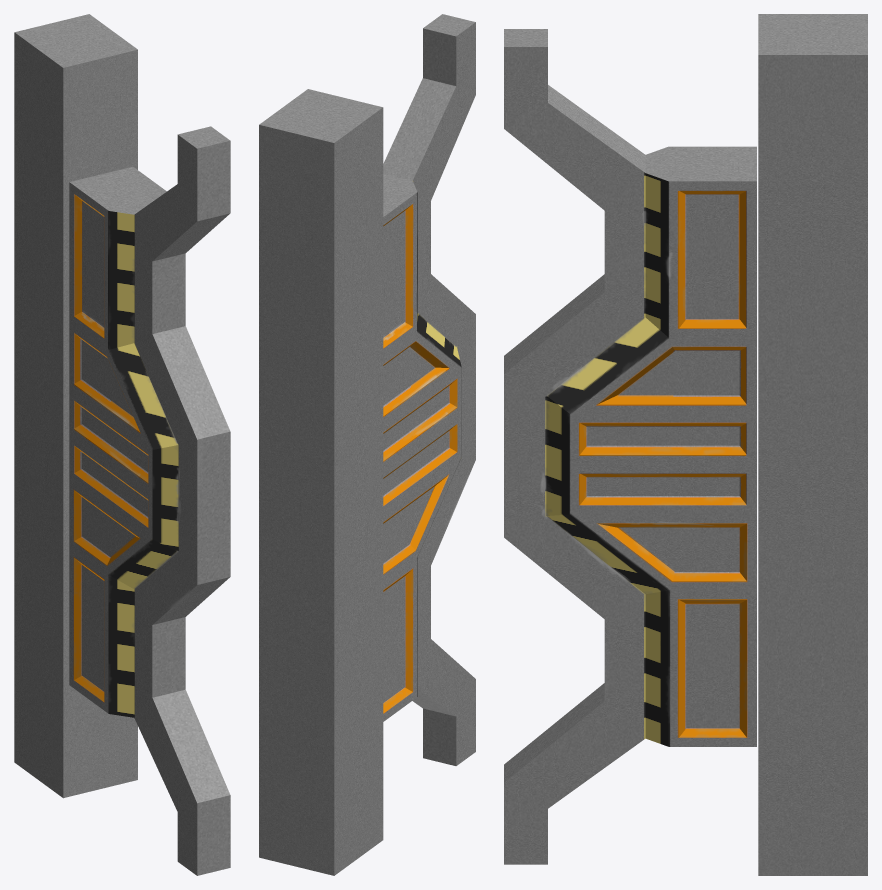
Rendered from Obj_WallSupport.fbx.
3 views of the same model, side by side, from view 1: azimuth 30°, elevation 25°; view 2: azimuth 150°, elevation 25°; view 3: azimuth 270°, elevation 25° (orthographic). The views are drawn at different scales.
Parts seen in each view (by area): view 1: Wall_Support; view 2: Wall_Support; view 3: Wall_Support.
Boxes of the visible parts, <box> form: Wall_Support: <box>14,14,230,875</box>; Wall_Support: <box>259,14,475,875</box>; Wall_Support: <box>504,14,867,875</box>.
Size of the model in its own units: 225 by 2095 by 842.
1 material, 1 textured.
